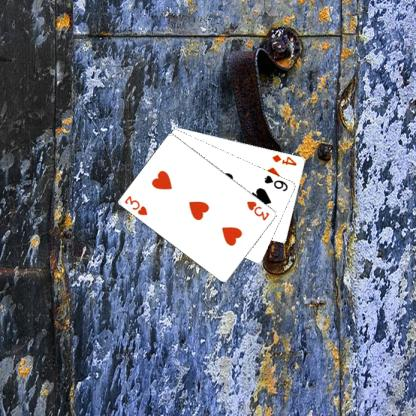3H: (122, 193, 150, 216), (245, 198, 271, 222)
4D: (270, 152, 298, 166)
6S: (262, 172, 289, 192)
